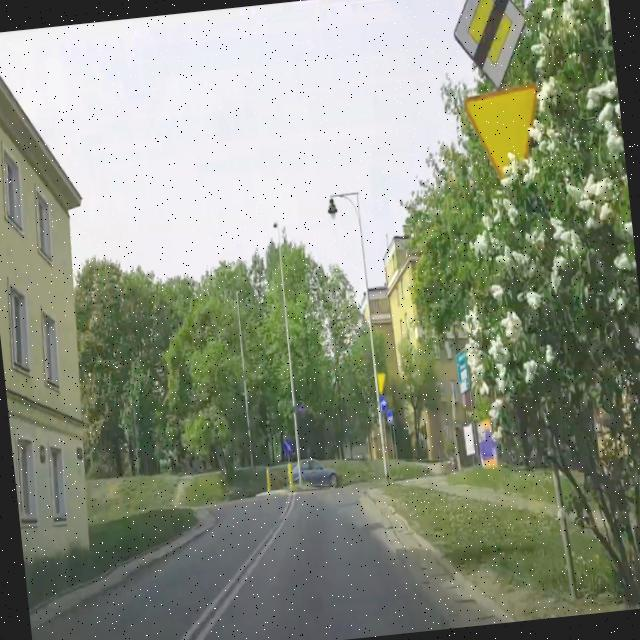Ustap pierwszenstwa: (462, 90, 540, 176), (376, 373, 386, 393)
